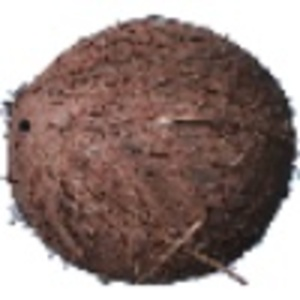coco: (1, 17, 300, 287)
